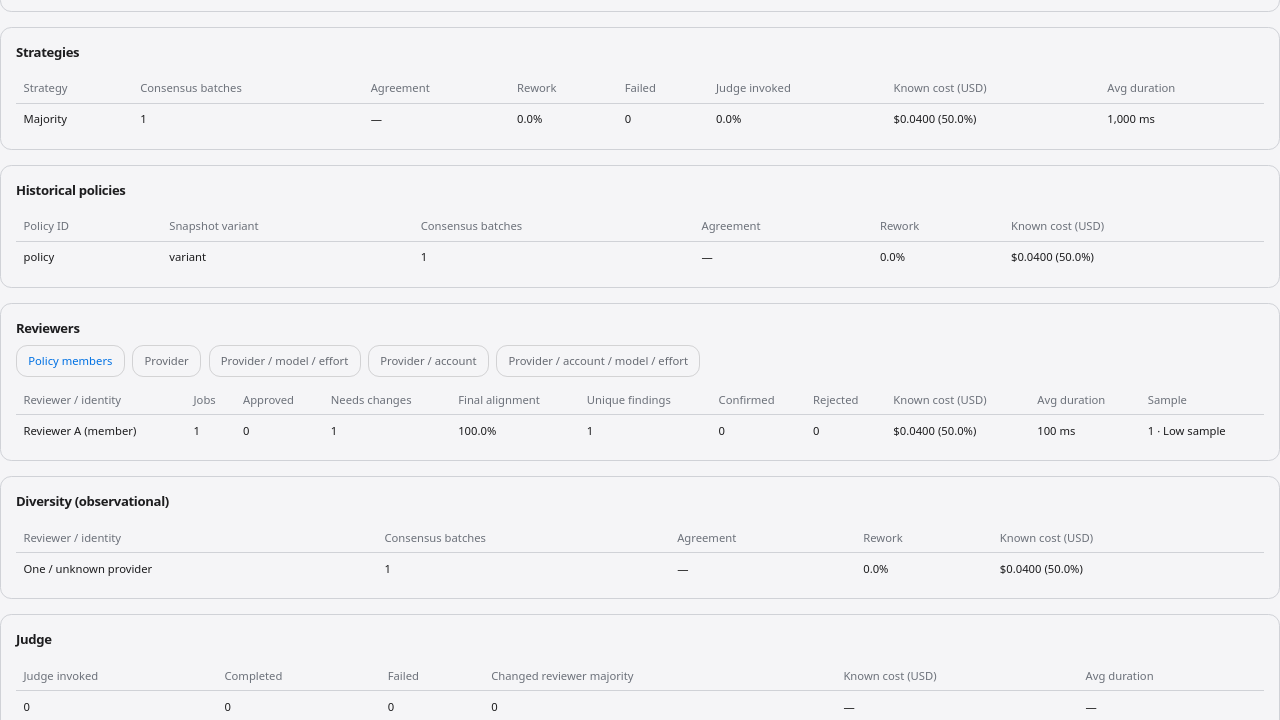
Test: Consensus evaluation dashboard › renders key sections, evidence, samples, unknowns and usage coverage
(page scrolled)
Expected: the heading "Strategies" is shown, [16,42,79,60]
Expected: the heading "Historical policies" is shown, [16,180,126,198]
Click the button "Provider / model / effort" at coordinates (284, 361), box [208,345,360,377]
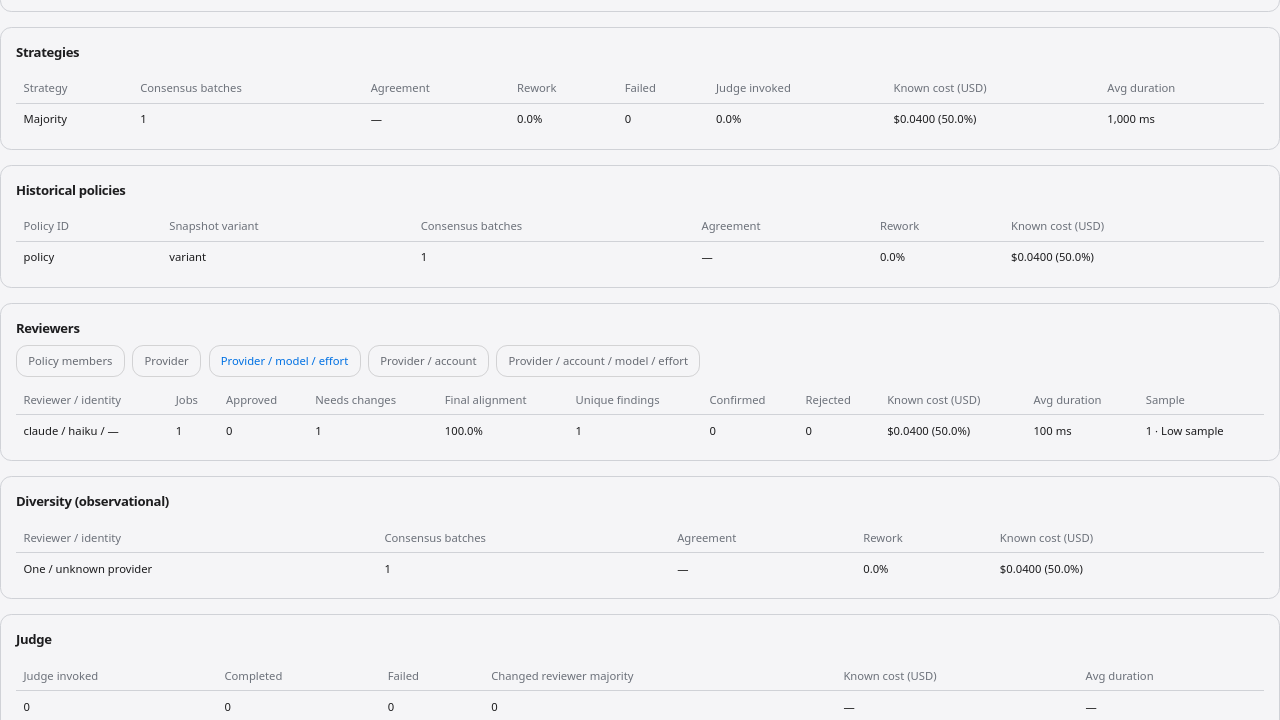
Now the text "claude / haiku / —" is shown, box [16,415,168,445]
